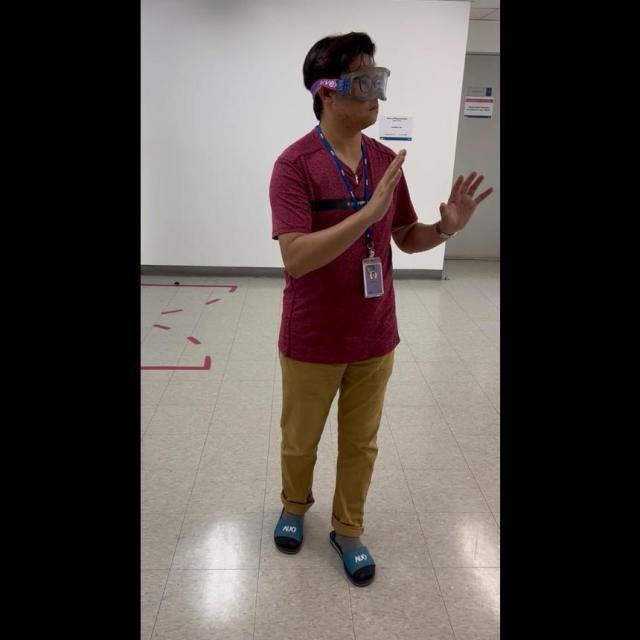bare_hand: (433, 164, 492, 237), (369, 141, 409, 202)
